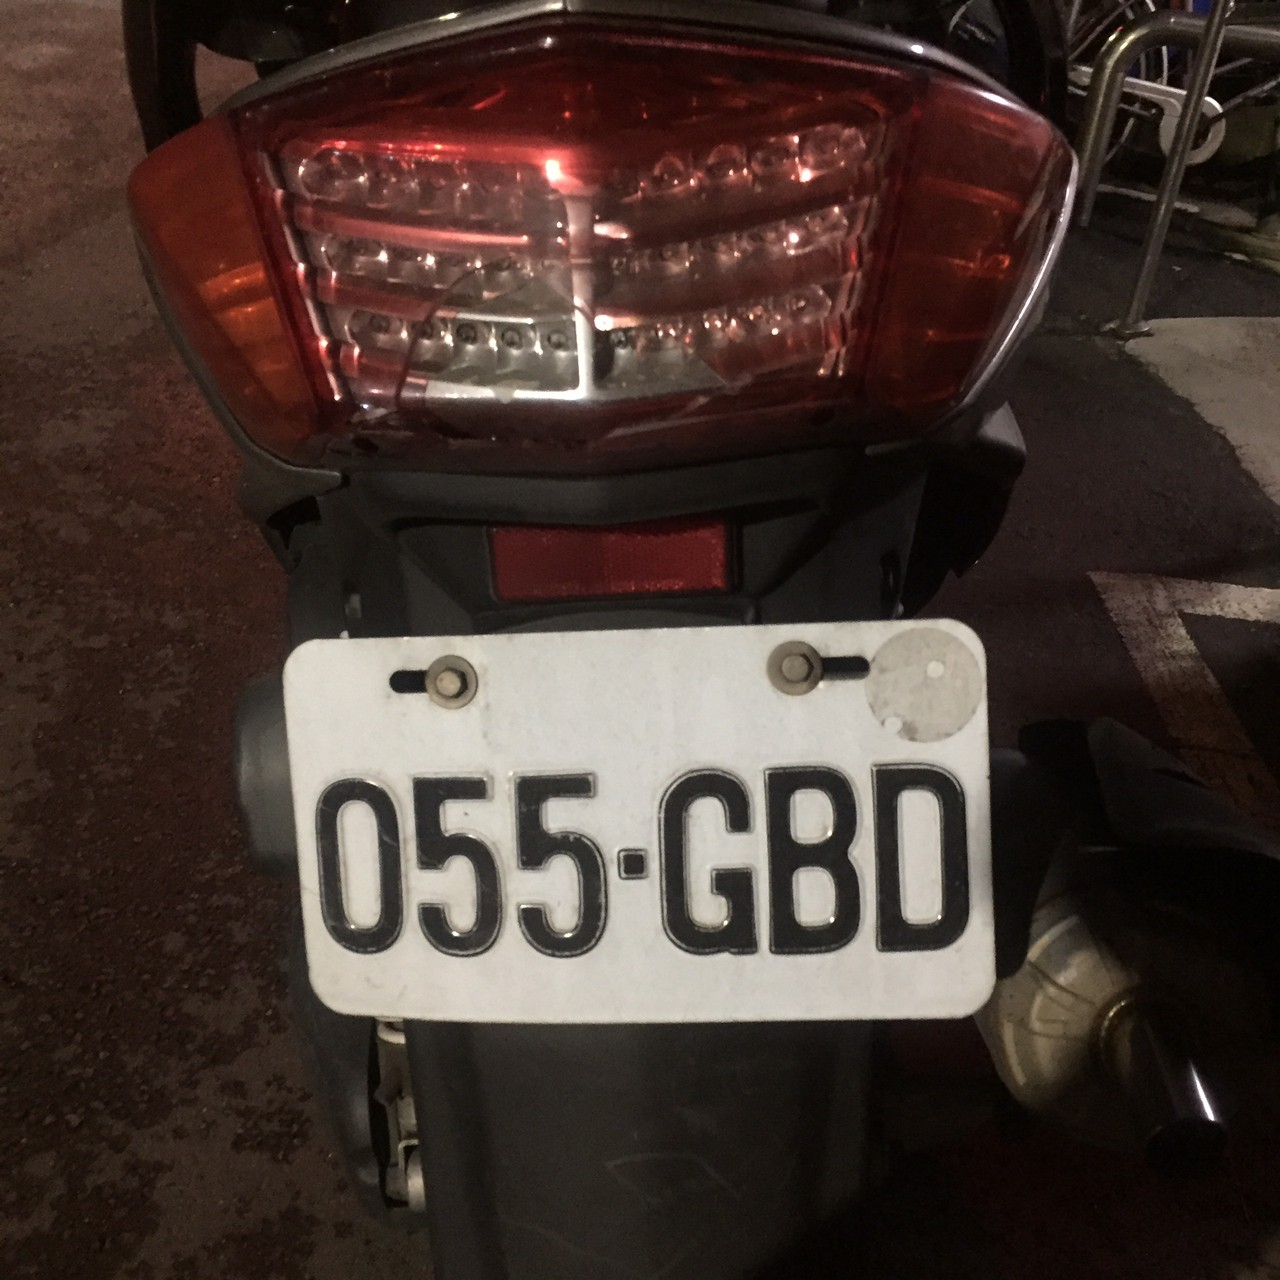LP: (274, 625, 1005, 1024)
